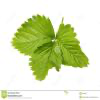Strawberry leaf: (10, 13, 55, 56), (56, 22, 91, 71), (28, 39, 63, 82)
